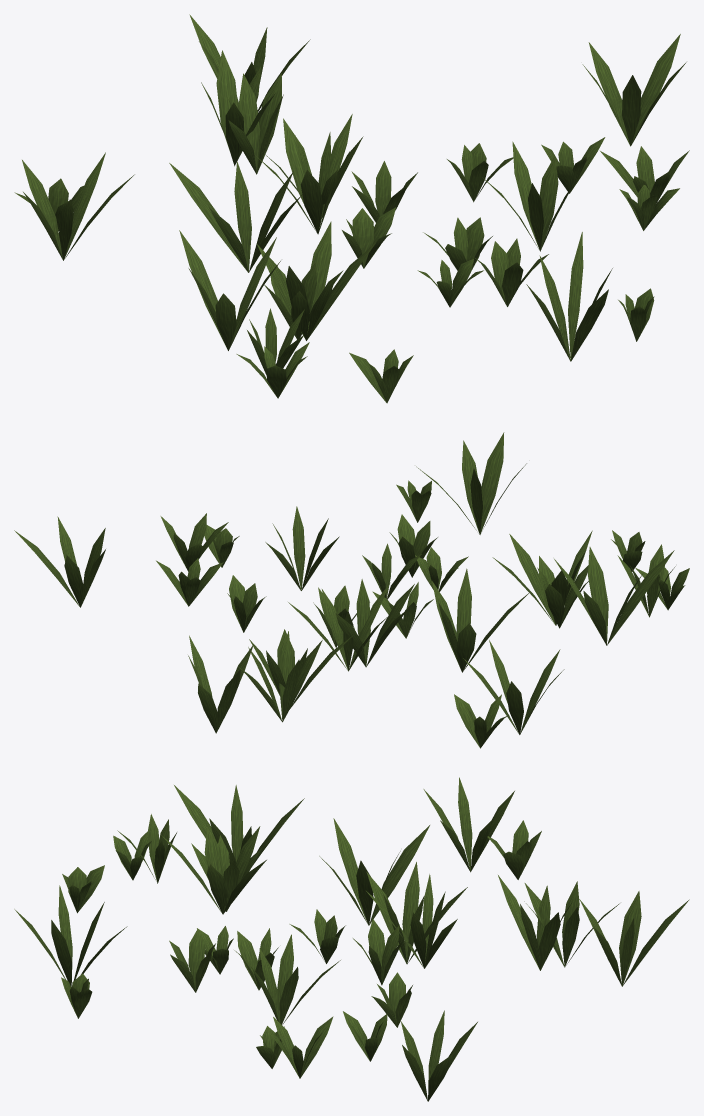
Rendered from WoodlandMoss_B.fbx.
3 renders of one model, top to bottom at view 1: azimuth 30°, elevation 25°; view 2: azimuth 150°, elevation 25°; view 3: azimuth 270°, elevation 25°, orthographic. The views are drawn at different scales.
Visible parts, largest first — view 1: WoodlandMoss_B_LOD0; view 2: WoodlandMoss_B_LOD0; view 3: WoodlandMoss_B_LOD0.
Boxes of the visible parts, x1,y1,x2,y2 form: WoodlandMoss_B_LOD0: [14, 14, 689, 403]; WoodlandMoss_B_LOD0: [14, 432, 689, 748]; WoodlandMoss_B_LOD0: [14, 777, 689, 1101].
Size of what is drawn, in the model's own units: 25.1 by 3.51 by 25.89.
1 material, 1 textured.
